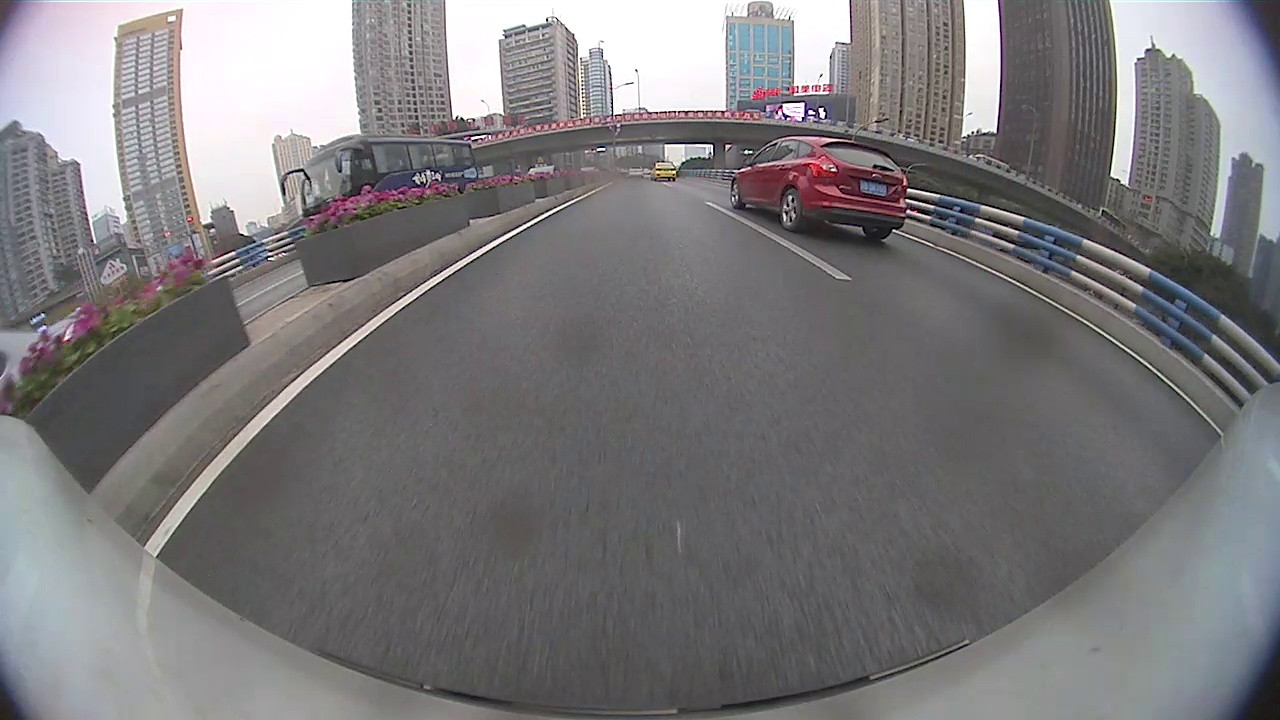bus: (273, 127, 485, 226)
car: (727, 129, 913, 244), (1, 316, 63, 419), (648, 158, 679, 184)
front: (728, 181, 744, 211)
rear: (778, 187, 808, 231)
